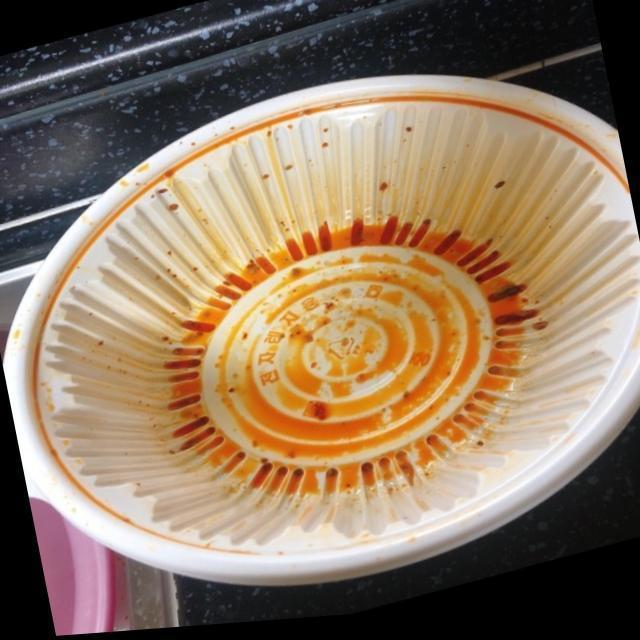disposable: (0, 56, 640, 582)
